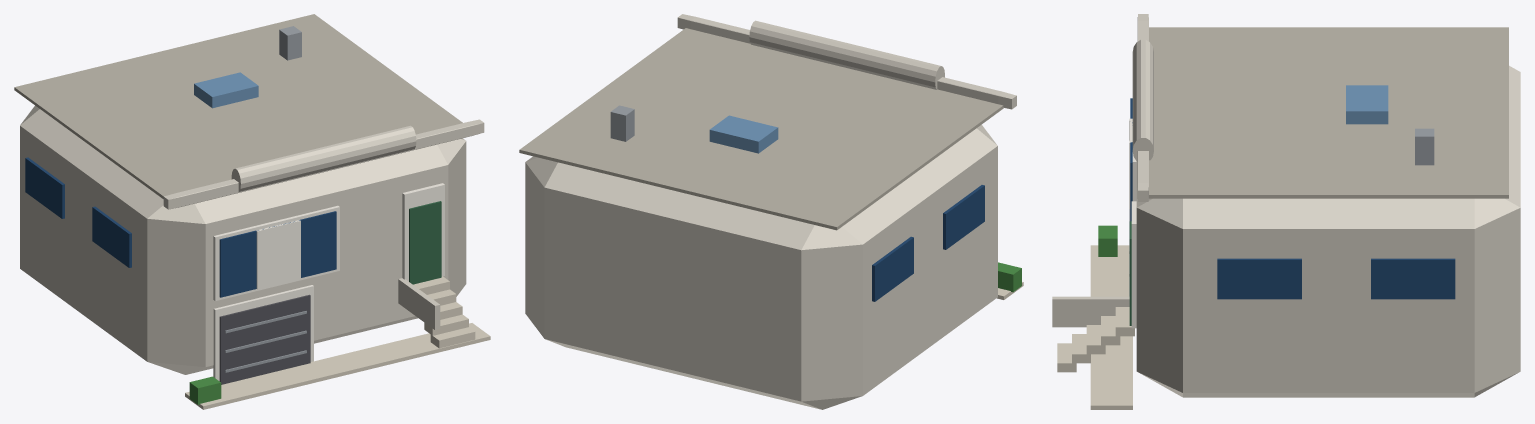
The model's file is sunset_w11_curved_pic.glb.
3 views of the same model, side by side, from view 1: azimuth 30°, elevation 25°; view 2: azimuth 150°, elevation 25°; view 3: azimuth 270°, elevation 25° (orthographic). The views are drawn at different scales.
Visible parts, largest first — view 1: walls, roofslab, gdoor, patio, pcurve, pwin, door, pp1, pmull, gfr, pfr, skylt (+8 smaller); view 2: walls, roofslab, pcurve, pp1, skylt, sb.002, sb, pipe, hedge; view 3: walls, roofslab, patio, sb.001, sb.003, pcurve, srail, skylt, pp1, dfr, pipe, hedge (+5 smaller).
Boxes of the visible parts, x1,y1,x2,y2 form: walls: [20, 105, 466, 374]; roofslab: [14, 14, 462, 198]; gdoor: [219, 294, 310, 384]; patio: [185, 323, 490, 409]; pcurve: [231, 125, 416, 191]; pwin: [219, 211, 336, 297]; door: [409, 201, 441, 284]; pp1: [163, 119, 484, 209]; pmull: [259, 221, 296, 287]; gfr: [213, 285, 313, 380]; pfr: [213, 205, 339, 300]; skylt: [194, 72, 258, 108]; walls: [525, 124, 997, 409]; roofslab: [519, 28, 1003, 230]; pcurve: [749, 20, 944, 89]; pp1: [677, 14, 1016, 109]; skylt: [709, 115, 778, 153]; sb.002: [872, 236, 913, 301]; sb: [943, 185, 984, 249]; pipe: [610, 105, 634, 141]; hedge: [998, 262, 1021, 292]; walls: [1136, 65, 1520, 397]; roofslab: [1149, 27, 1508, 198]; patio: [1090, 245, 1132, 409]; sb.001: [1217, 258, 1301, 299]; sb.003: [1371, 258, 1455, 299]; pcurve: [1132, 39, 1153, 161]; srail: [1052, 296, 1129, 327]; skylt: [1346, 85, 1388, 124]; pp1: [1137, 14, 1148, 201]; dfr: [1131, 201, 1136, 328]; pipe: [1415, 128, 1434, 165]; hedge: [1098, 225, 1117, 256].
Size of the model in its own units: 11.2 by 7.1 by 12.2.
